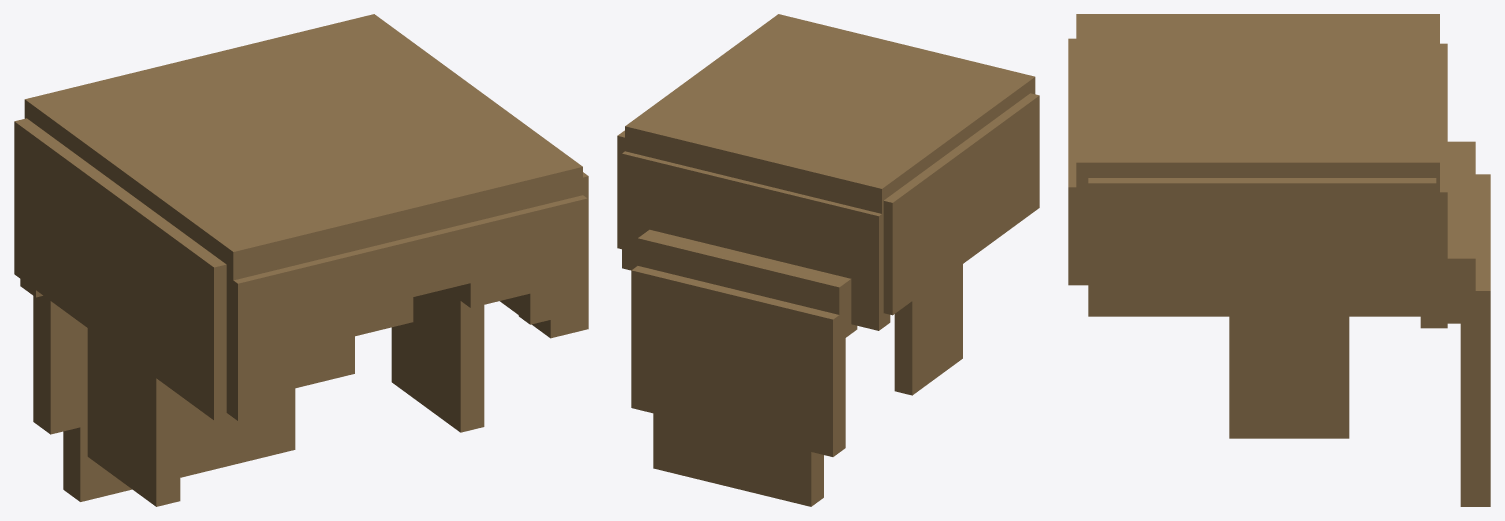
Rendered from hair_long.glb.
3 views of the same model, side by side, from view 1: azimuth 30°, elevation 25°; view 2: azimuth 150°, elevation 25°; view 3: azimuth 270°, elevation 25° (orthographic). The views are drawn at different scales.
Parts seen in each view (by area): view 1: char_hair_visual; view 2: char_hair_visual; view 3: char_hair_visual.
Boxes of the visible parts, x1,y1,x2,y2 form: char_hair_visual: (14, 14, 588, 506); char_hair_visual: (617, 14, 1039, 506); char_hair_visual: (1068, 14, 1490, 506).
Bounding box in the file's own units: 0.628 × 0.6855 × 0.703.
